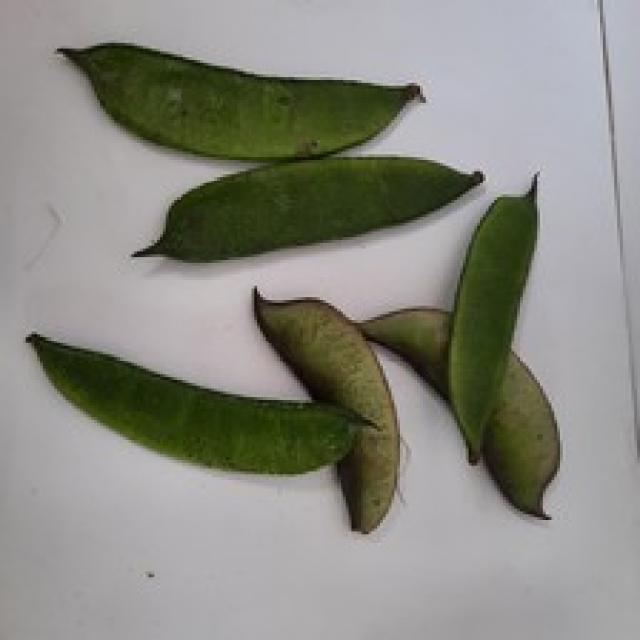Bean: (23, 329, 377, 474), (54, 37, 426, 160), (128, 151, 483, 263), (251, 283, 400, 531), (443, 171, 537, 463)
